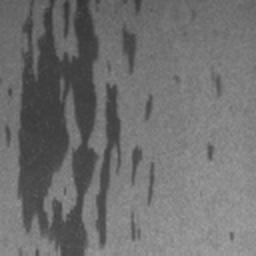Red iron sheet: (4, 0, 143, 255), (122, 22, 137, 74), (210, 67, 221, 97), (131, 215, 142, 242), (148, 163, 155, 204), (145, 93, 154, 119), (133, 0, 141, 14), (207, 143, 214, 159), (229, 232, 234, 241)
